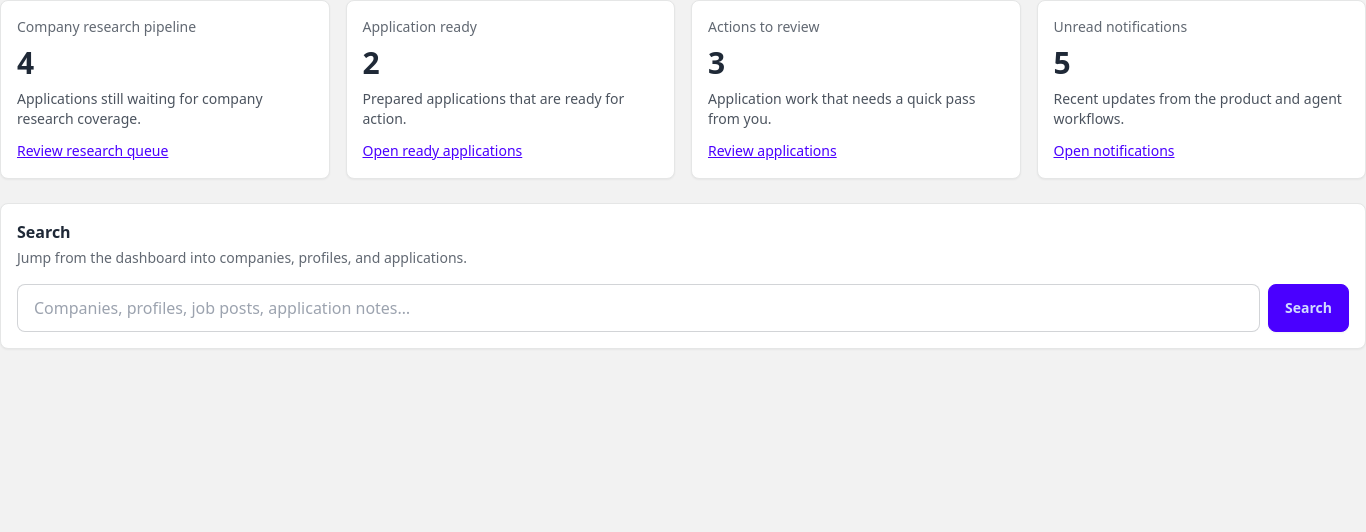
Test case: DashboardPage › shows actionable metric links and recognizable application search rows
Check: the text "4" is shown, box [17,42,34,83]
Type "  platform  " into the field named "Search dashboard". click: [639, 308]
box: [17,284,1260,332]
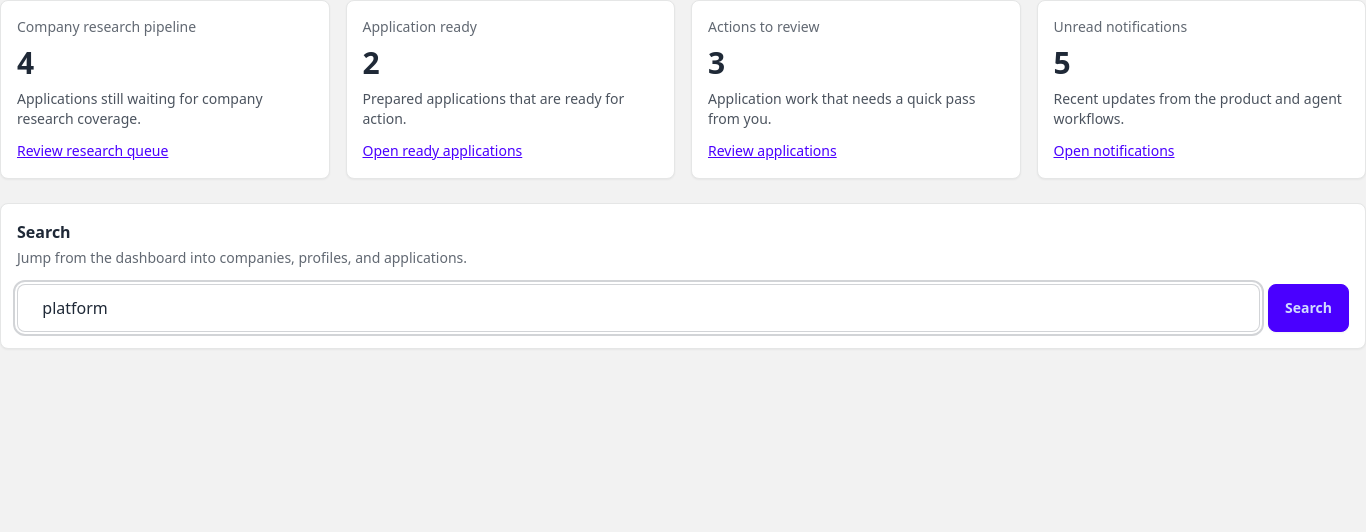
Click the button "Search". click: [1309, 308]
box: [1268,284,1349,332]
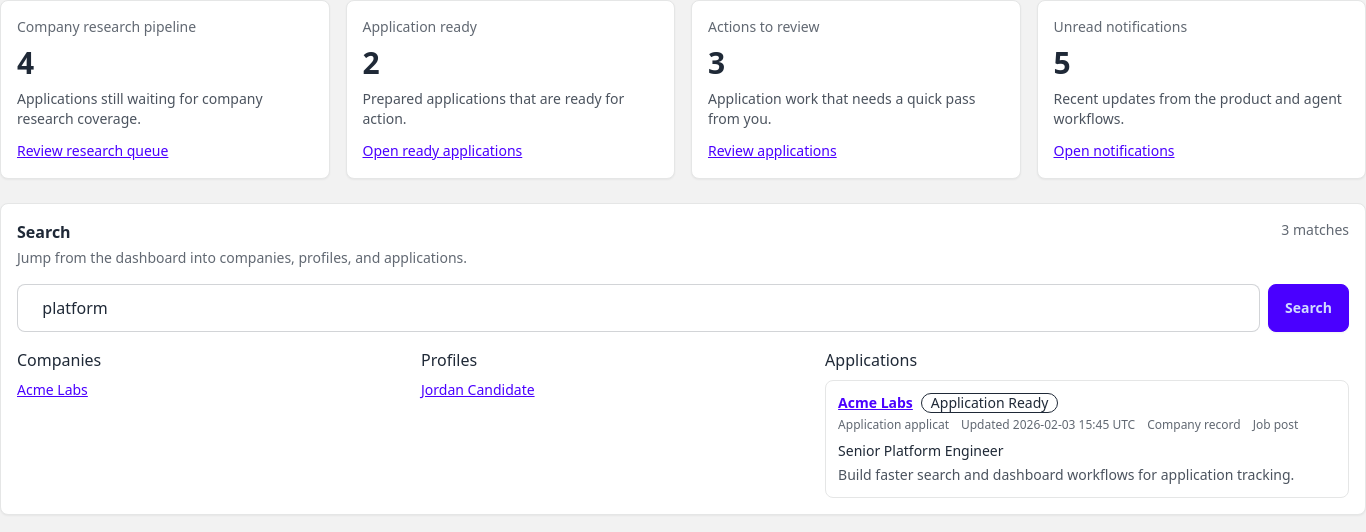
Check: the text "Senior Platform Engineer" is shown, box [838,441,1004,460]
Check: the text "Application Ready" is shown, box [921,393,1058,413]
Check: the text "Build faster search and dashboard workflows for application tracking." is shown, box [838,465,1336,485]
